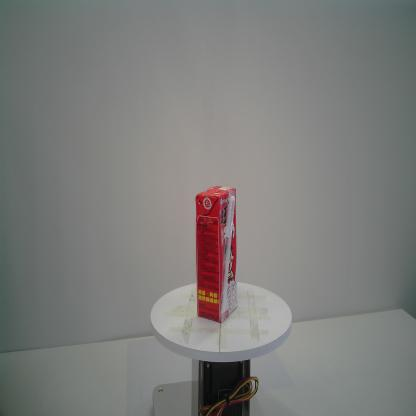Milk: (194, 184, 240, 326)
